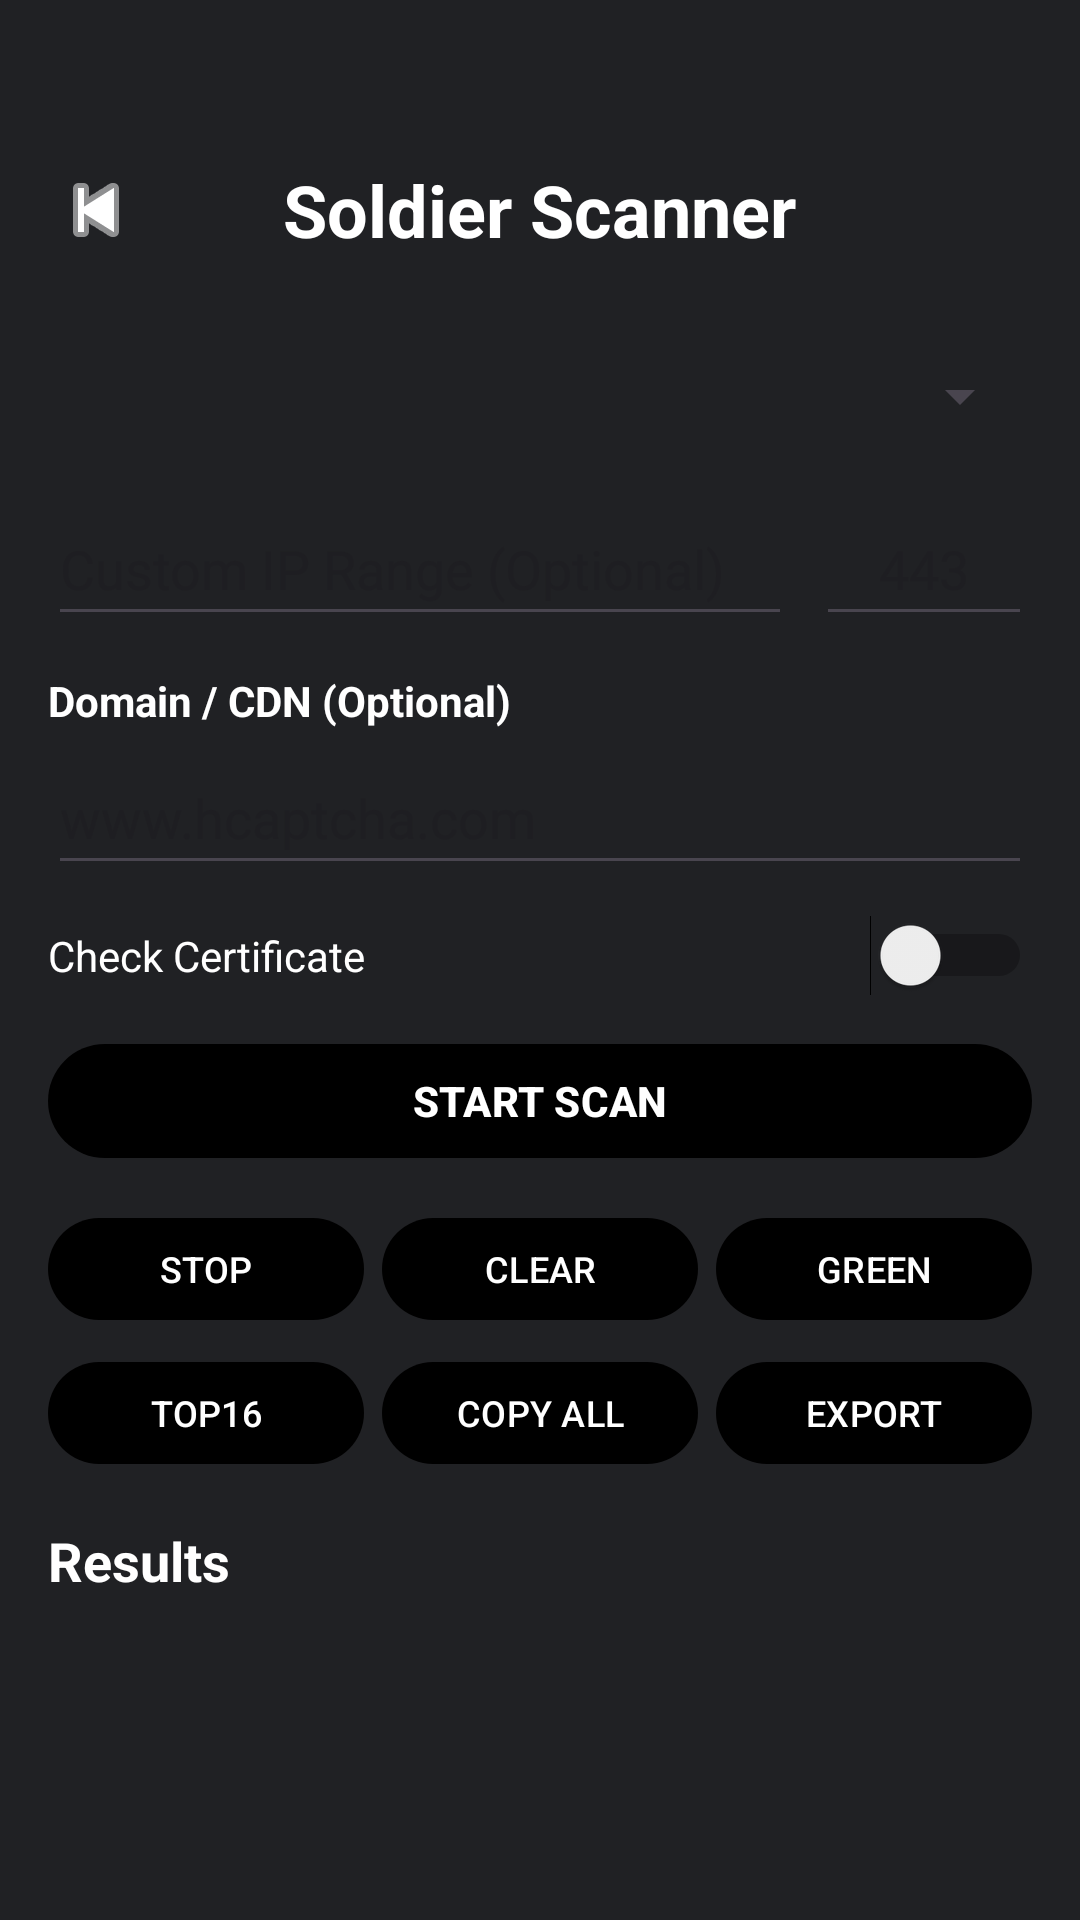

Point at icon controls on the screen. Image size 1080 x 1920, points as [x,y].
previous: [96,210]
